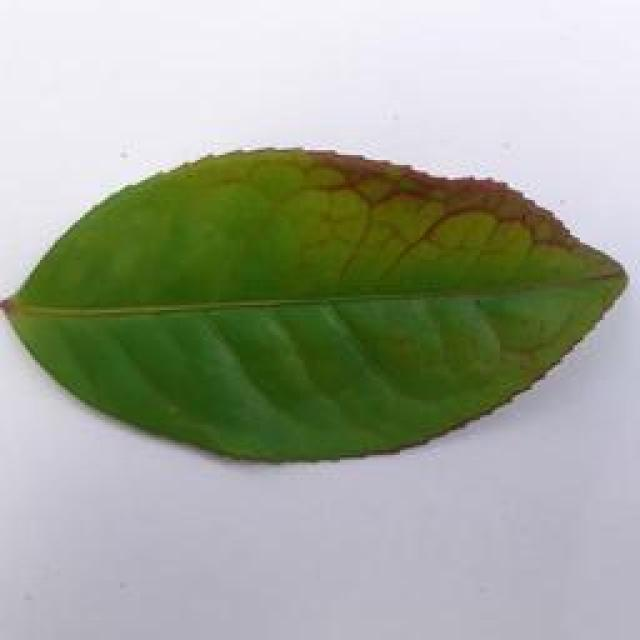Red Leaf Spot: (2, 115, 640, 450)
